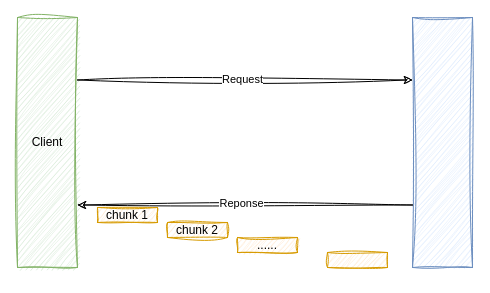
Some shapes in this 490 by 293 pixel diagram are drawn without their labels. Here are the shapes that lost their labels. From the top down, the box of each, then its label:
(412, 16, 472, 268): Server
(326, 252, 388, 268): last chunk
